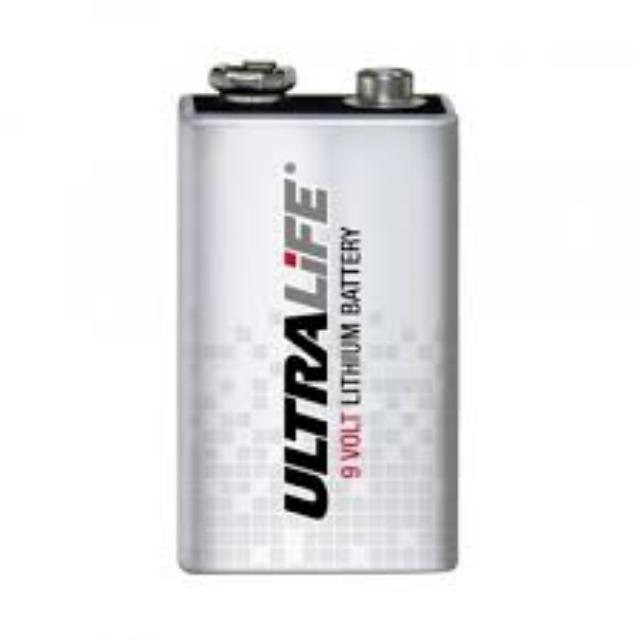Battery: (174, 63, 464, 580)
